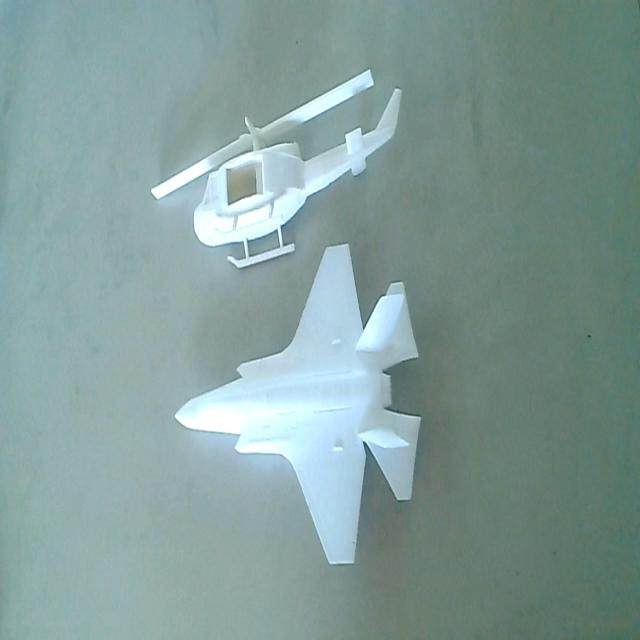Helicopter: (142, 66, 402, 277)
Jet: (172, 242, 422, 566)
